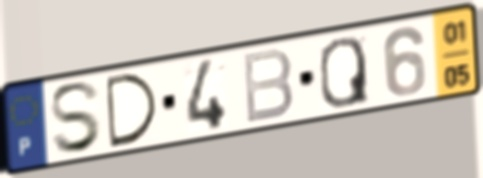4: (184, 56, 231, 133)
6: (380, 23, 427, 99)
B: (239, 46, 296, 127)
D: (102, 70, 162, 151)
Q: (317, 34, 372, 111)
S: (46, 78, 104, 157)
